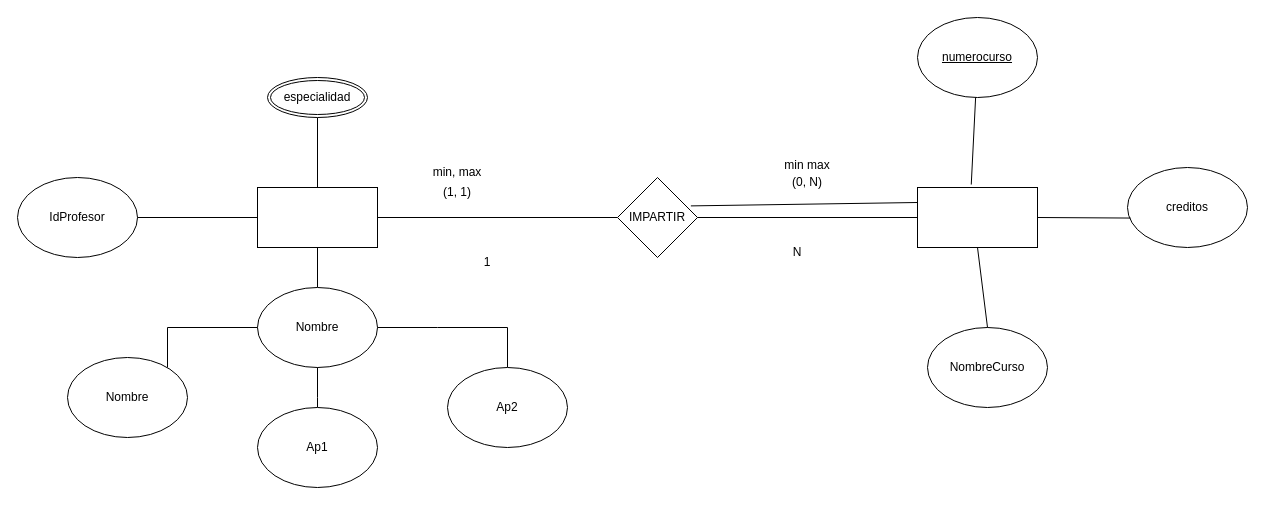
Some shapes in this 1265 by 505 pixel diagram are drawn without their labels. The box of each missing label's shape, as (x1, y1, x2, y2) in pixels:
CURSO: (916, 186, 1038, 248)
PROFESOR: (256, 186, 378, 248)
